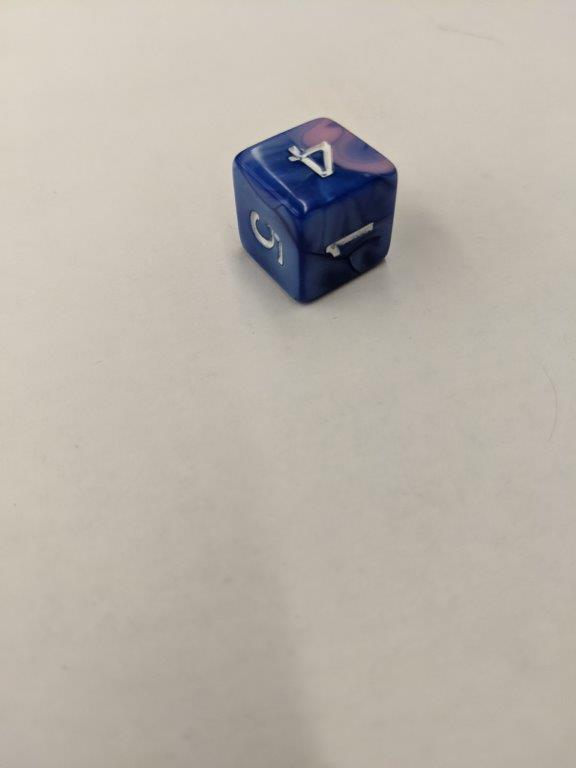d6-4: (234, 117, 399, 305)
